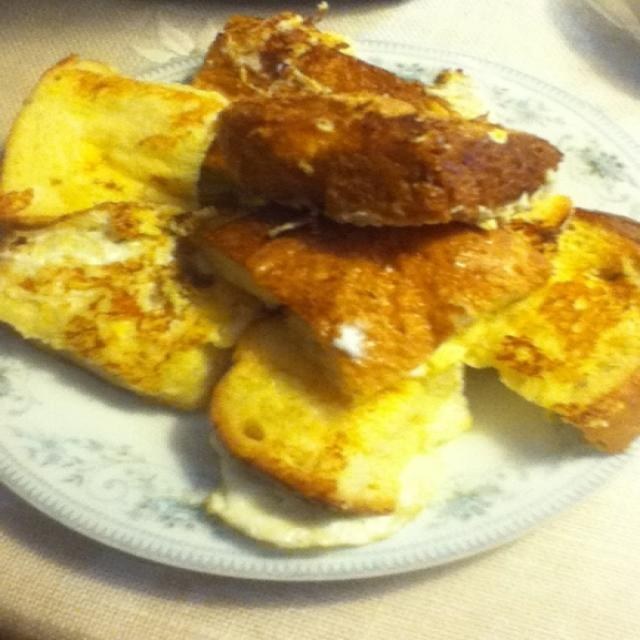面包点心: (9, 18, 637, 576)
